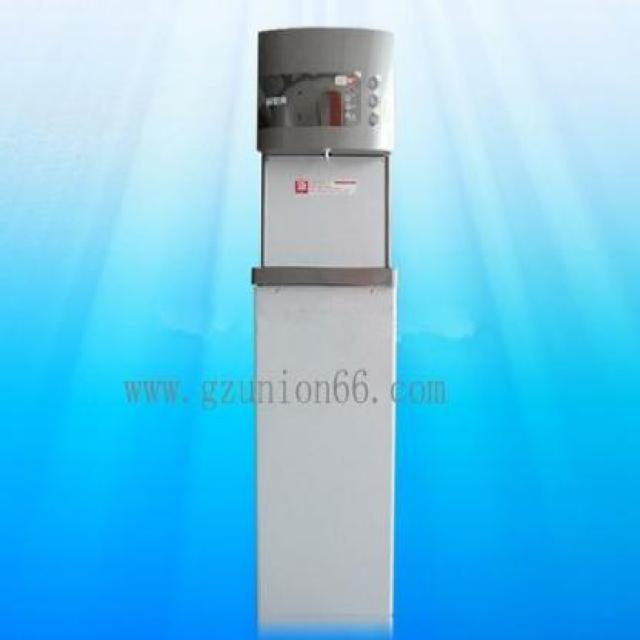cooler: (251, 16, 401, 640)
